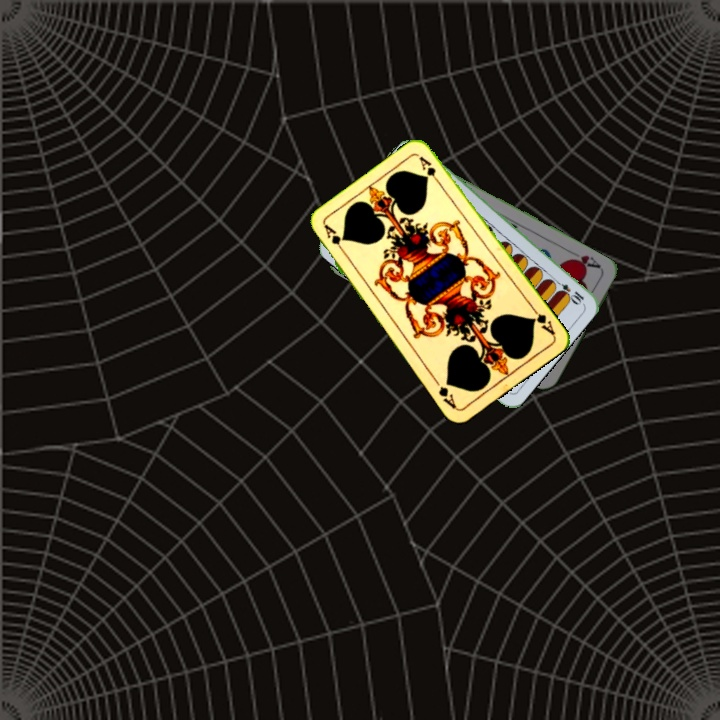E10: (550, 276, 587, 306)
GA: (528, 303, 558, 338), (320, 221, 348, 257)
HA: (566, 251, 603, 271)
